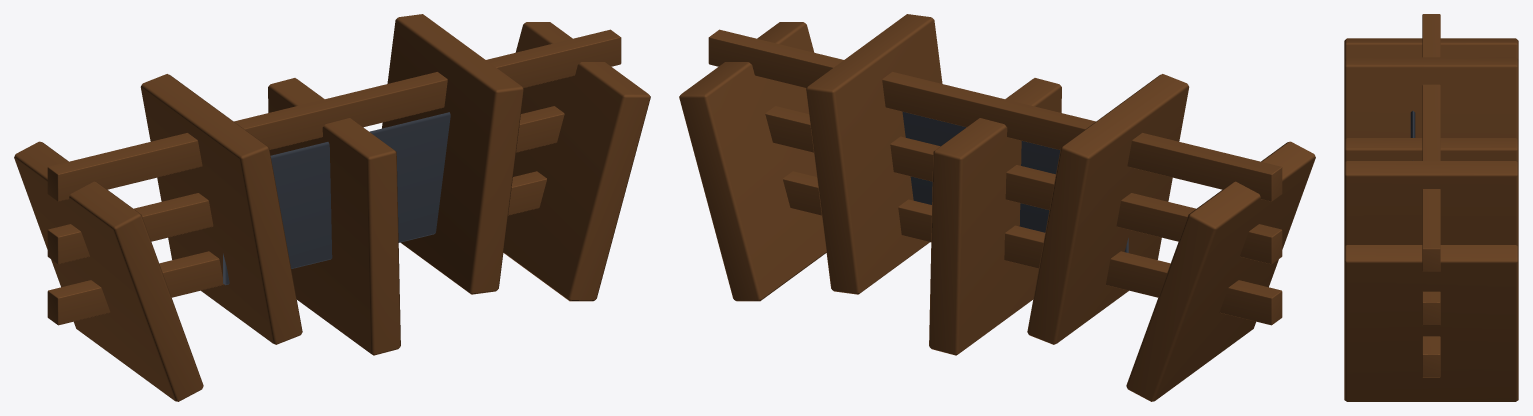
File: debris-barricade-intact.glb
The picture shows the model from 3 angles, left to right: view 1: azimuth 30°, elevation 25°; view 2: azimuth 150°, elevation 25°; view 3: azimuth 270°, elevation 25°; orthographic projection. The views are drawn at different scales.
Parts seen in each view (by area): view 1: debris-barricade-intact; view 2: debris-barricade-intact; view 3: debris-barricade-intact.
Boxes of the visible parts, bbox=[...] form: debris-barricade-intact: bbox=[14, 14, 650, 401]; debris-barricade-intact: bbox=[679, 14, 1315, 401]; debris-barricade-intact: bbox=[1344, 14, 1518, 401].
Bounding box in the file's own units: 3 × 1.2 × 0.94.
1 material, 1 textured.
